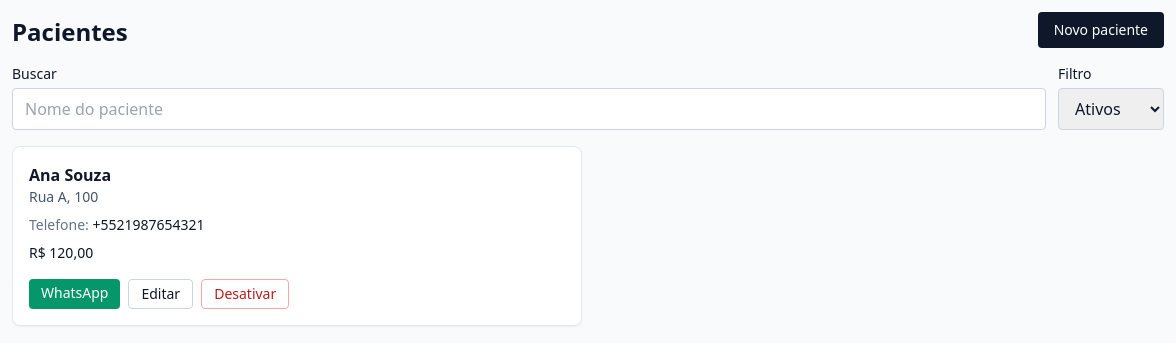
Test: Patients page › deactivates a patient after confirmation
This screenshot has width=1176, height=343.
Click the button "Desativar" at (245, 294), box [201,279,289,309]
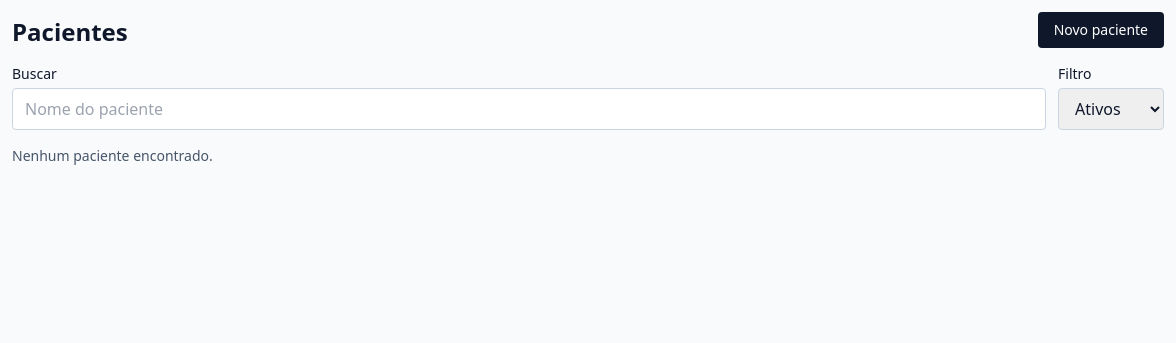
Expected: the text "Nenhum paciente encontrado." is shown, [12,146,213,165]
